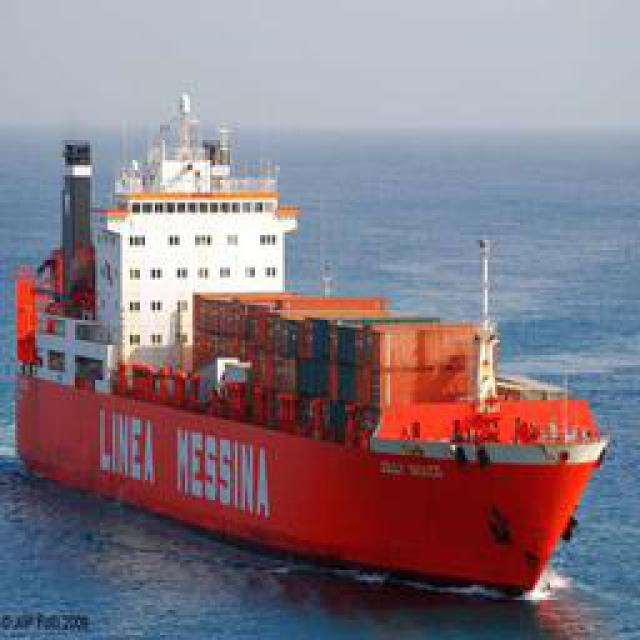Ship: (9, 131, 614, 596)
